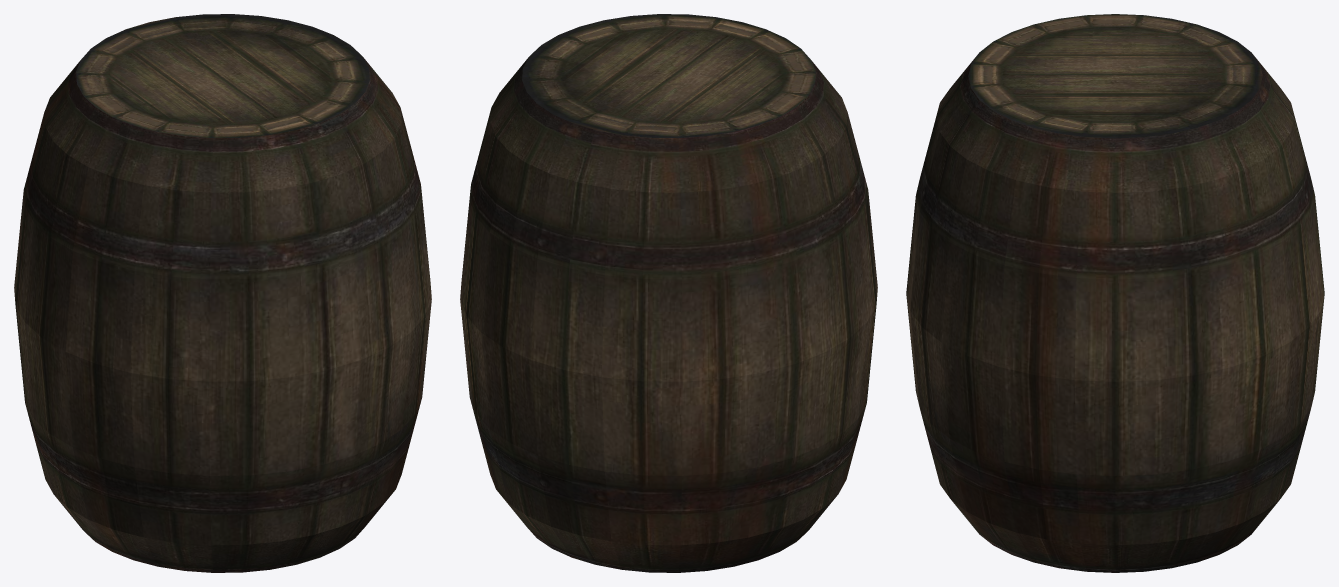
Rendered from Barril.fbx.
3 views of the same model, side by side, from view 1: azimuth 30°, elevation 25°; view 2: azimuth 150°, elevation 25°; view 3: azimuth 270°, elevation 25° (orthographic).
Visible parts, largest first — view 1: Cylinder; view 2: Cylinder; view 3: Cylinder.
Boxes of the visible parts, x1=… form: Cylinder: x1=14, y1=14, x2=431, y2=572; Cylinder: x1=460, y1=14, x2=877, y2=572; Cylinder: x1=906, y1=14, x2=1324, y2=572.
Bounding box in the file's own units: 334 × 383 × 334.
Materials: 1 (1 with a texture image).
